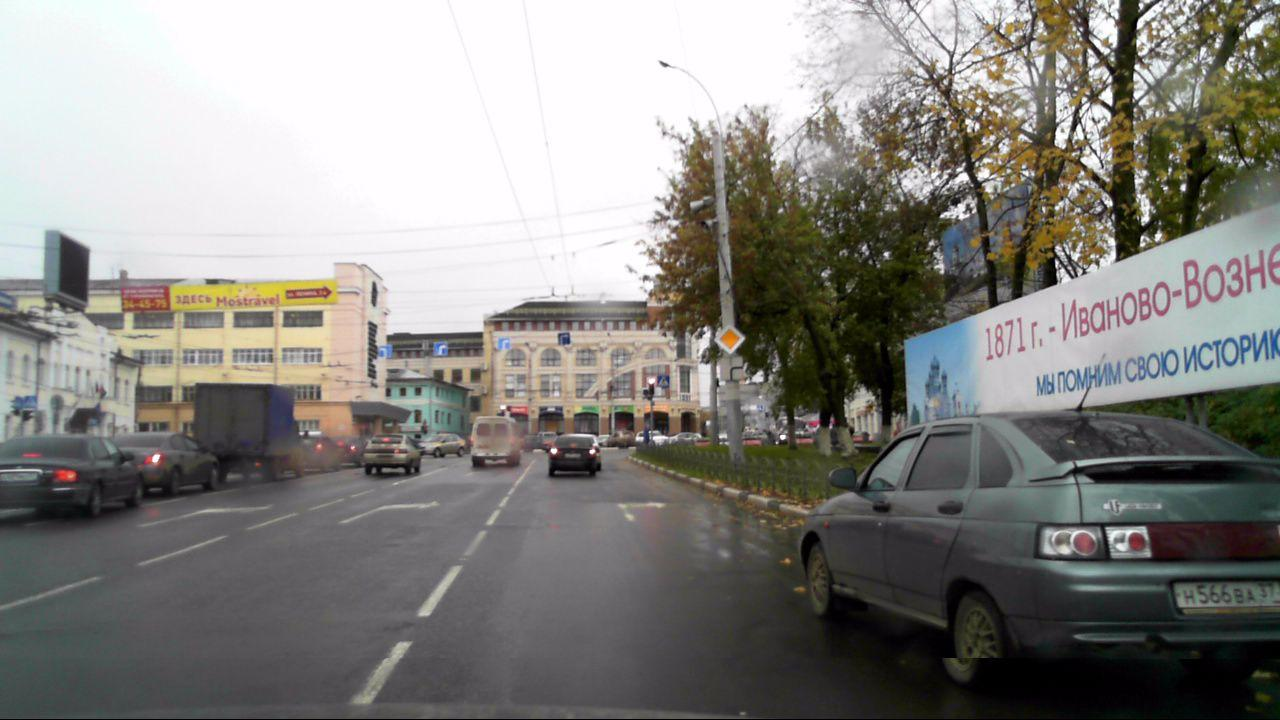2_1: (714, 323, 748, 353)
5_15_2: (433, 341, 449, 359), (379, 344, 393, 359), (497, 336, 511, 350), (557, 332, 572, 345)
5_19_1: (658, 375, 670, 389)
8_13: (719, 356, 743, 380)
